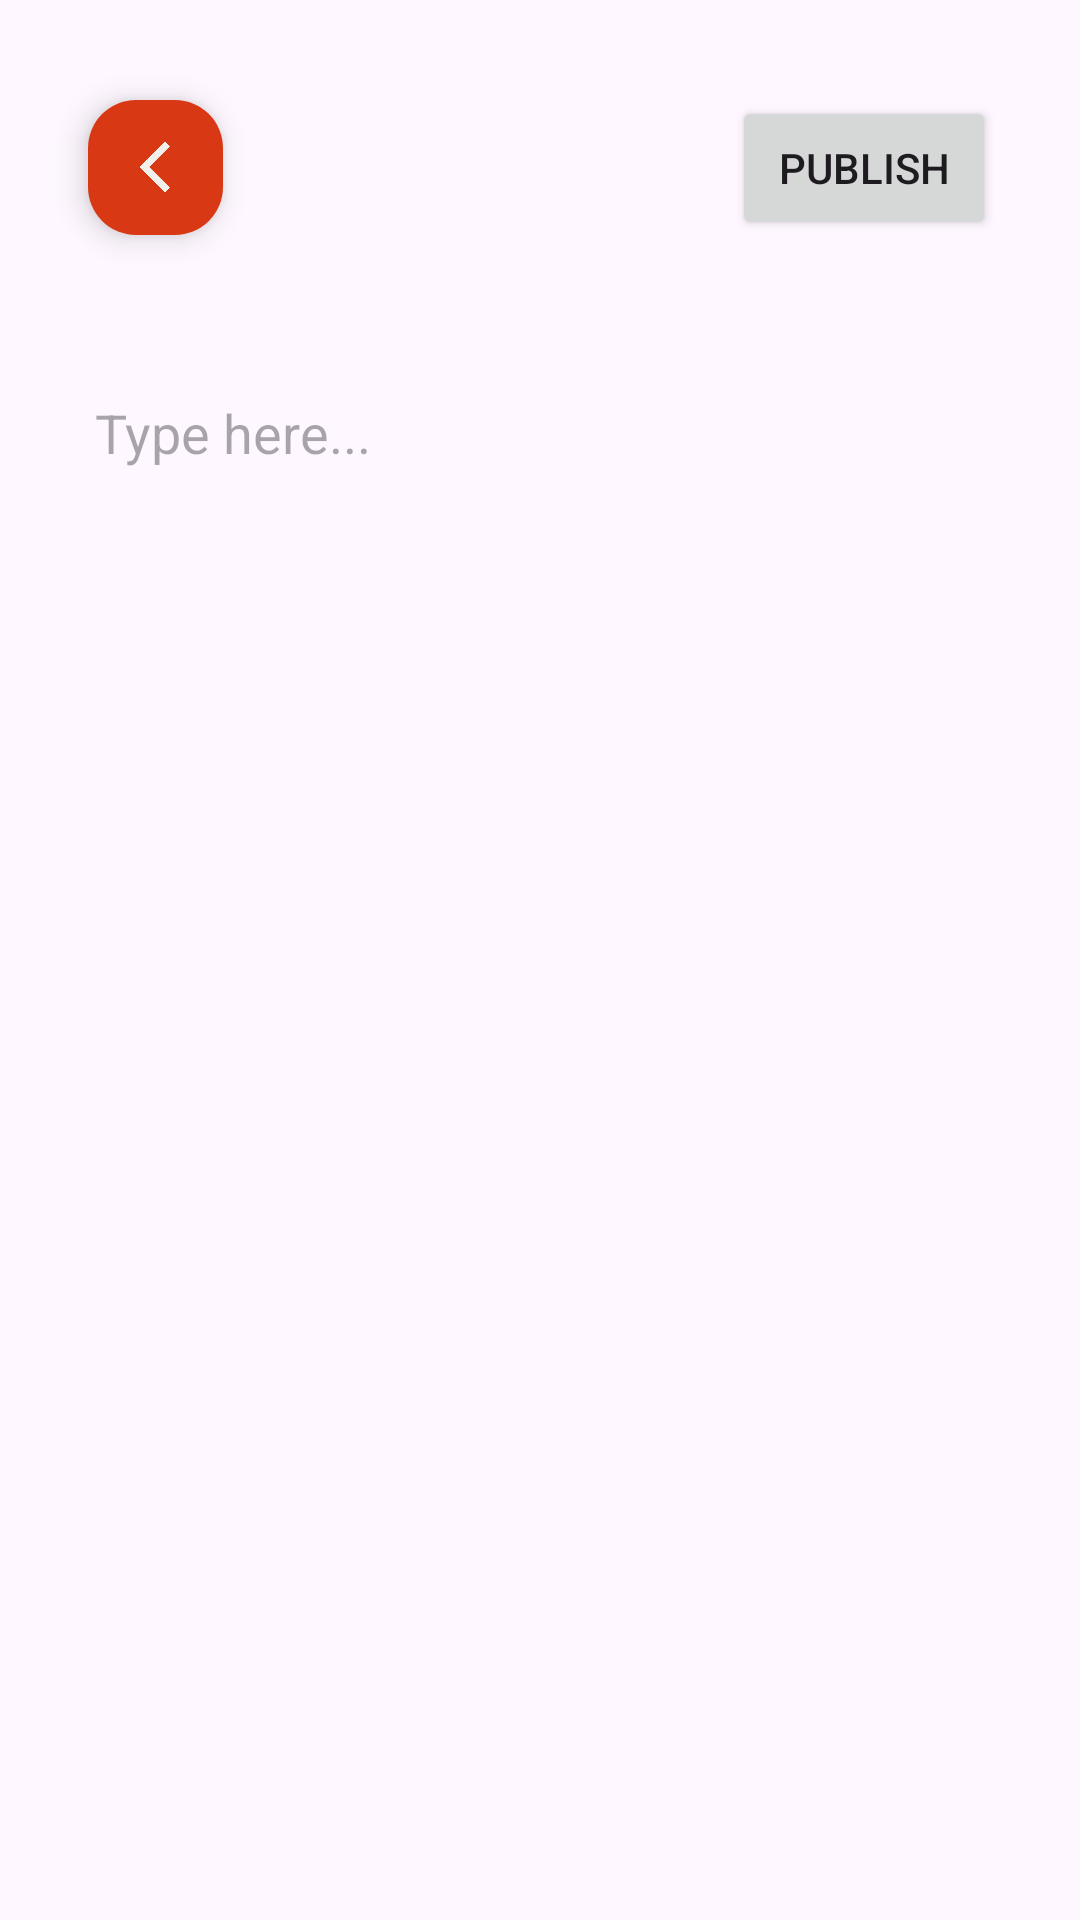

Point at icon controls on the screen. Image size 1080x1920, points as (x,y).
arrow back: (155,167)
